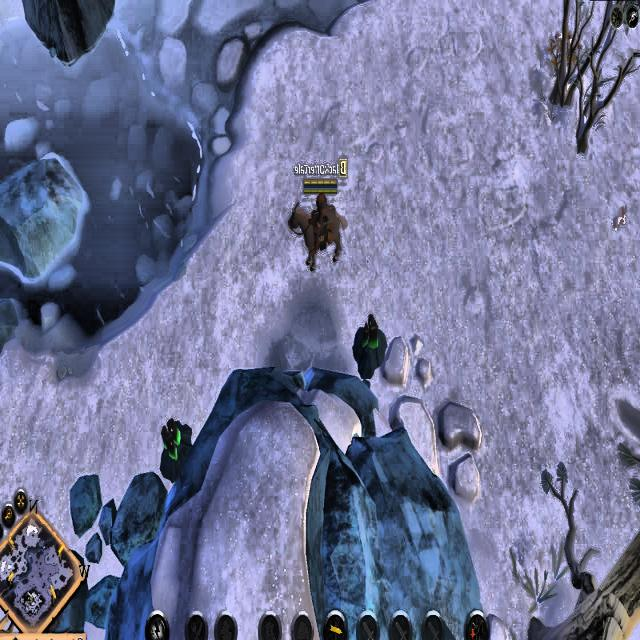tinore: (156, 412, 199, 480), (352, 312, 387, 386)
